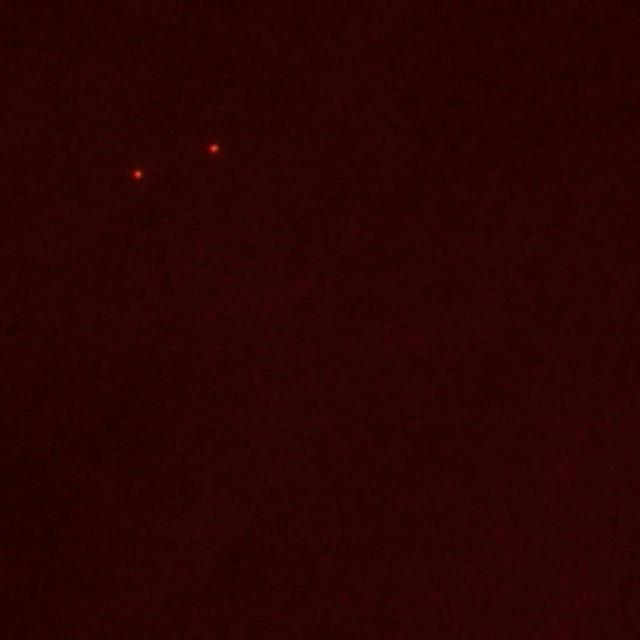Fragment: (133, 170, 147, 182), (210, 145, 222, 157)
